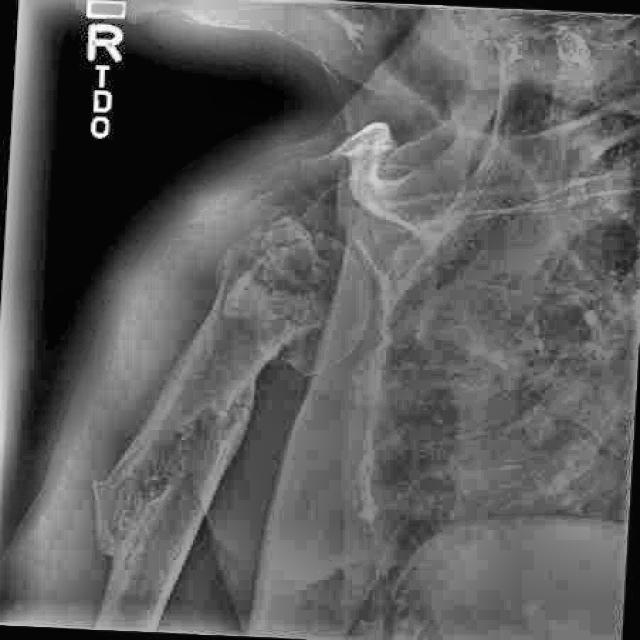shoulder fracture: (73, 386, 222, 595)
